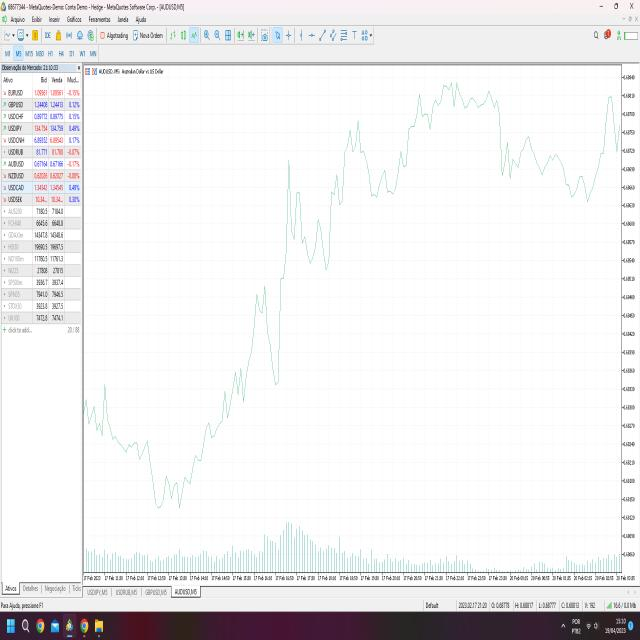fundo_duplo: (298, 194, 334, 283)
